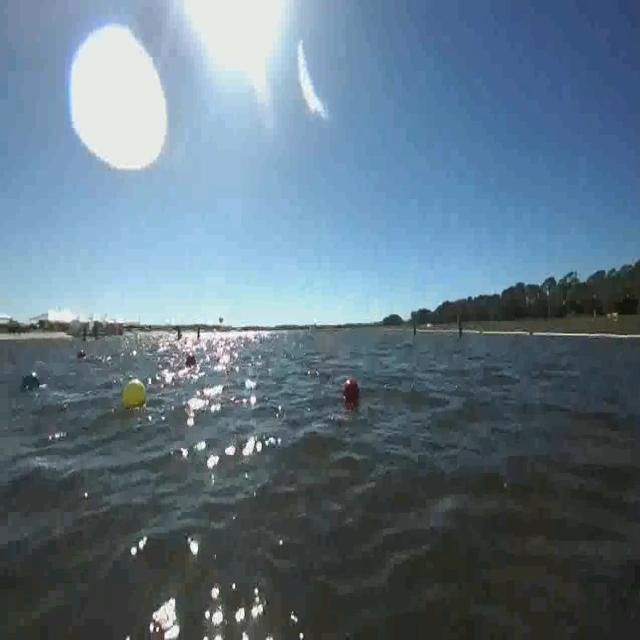red-buoy: (344, 378, 361, 403)
yellow-buoy: (123, 376, 149, 411)
